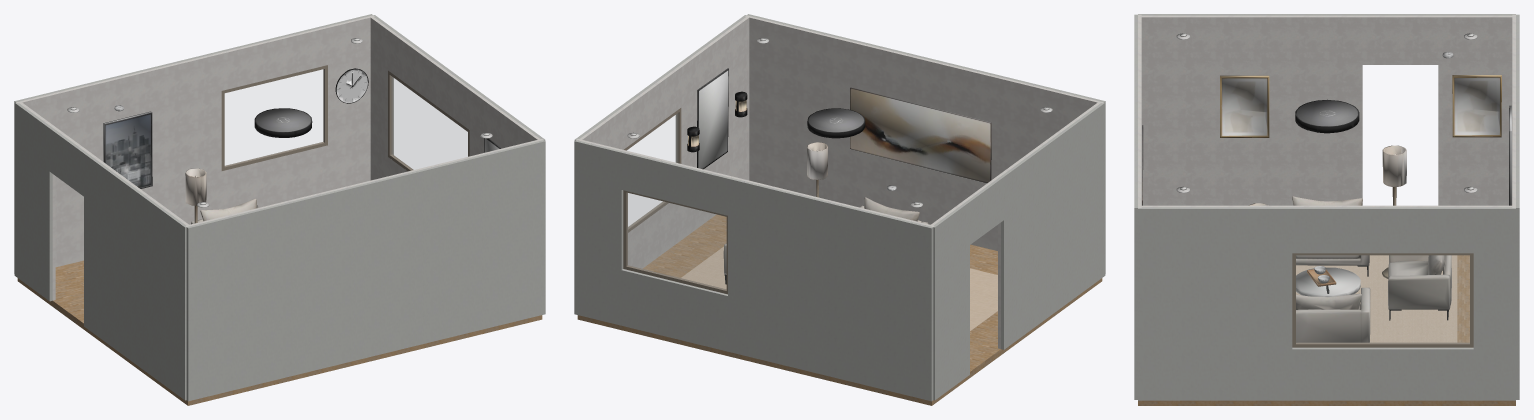
File: scene_named.glb
3 renders of one model, left to right at view 1: azimuth 30°, elevation 25°; view 2: azimuth 150°, elevation 25°; view 3: azimuth 270°, elevation 25°, orthographic. The views are drawn at different scales.
Visible parts, largest first — view 1: south_wall_exterior_living_room/south_wall_exterior_living_r, north_wall_living_room/north_wall_living_room/geometry_0, west_wall_exterior_living_room/west_wall_exterior_living_roo, east_wall_living_room/east_wall_living_room/geometry_0, window_2_living_room/window_2_living_room/glass, window_1_living_room/window_1_living_room/glass, floor_living_room, photograph_print_0, window_2_living_room/window_2_living_room/frame, flush_mount_0, west_wall_living_room/west_wall_living_room/geometry_0, north_wall_exterior_living_room/north_wall_exterior_living_r (+6 smaller); view 2: north_wall_exterior_living_room/north_wall_exterior_living_r, south_wall_living_room/south_wall_living_room/geometry_0, west_wall_exterior_living_room/west_wall_exterior_living_roo, east_wall_living_room/east_wall_living_room/geometry_0, painting_0, window_2_living_room/window_2_living_room/glass, floor_living_room, mirror_0, rug_0, window_1_living_room/window_1_living_room/glass, flush_mount_0, window_2_living_room/window_2_living_room/frame (+7 smaller); view 3: east_wall_exterior_living_room/east_wall_exterior_living_roo, west_wall_living_room/west_wall_living_room/geometry_0, window_1_living_room/window_1_living_room/glass, rug_0, sofa_chair_2, sofa_chair_0, floor_living_room, print_0, print_1, window_1_living_room/window_1_living_room/frame, flush_mount_0, north_wall_exterior_living_room/north_wall_exterior_living_r (+8 smaller).
Part boxes in pixels (x1,y1,x2,y2): south_wall_exterior_living_room/south_wall_exterior_living_r: [186, 140, 545, 401]; north_wall_living_room/north_wall_living_room/geometry_0: [16, 15, 374, 267]; west_wall_exterior_living_room/west_wall_exterior_living_roo: [14, 102, 186, 400]; east_wall_living_room/east_wall_living_room/geometry_0: [370, 17, 539, 180]; window_2_living_room/window_2_living_room/glass: [225, 69, 323, 166]; window_1_living_room/window_1_living_room/glass: [391, 76, 467, 169]; floor_living_room: [17, 260, 542, 405]; photograph_print_0: [103, 111, 152, 188]; window_2_living_room/window_2_living_room/frame: [221, 65, 327, 170]; flush_mount_0: [254, 108, 312, 137]; west_wall_living_room/west_wall_living_room/geometry_0: [20, 102, 188, 300]; north_wall_exterior_living_room/north_wall_exterior_living_r: [14, 14, 372, 273]; north_wall_exterior_living_room/north_wall_exterior_living_r: [574, 140, 933, 401]; south_wall_living_room/south_wall_living_room/geometry_0: [745, 15, 1103, 250]; west_wall_exterior_living_room/west_wall_exterior_living_roo: [933, 102, 1105, 400]; east_wall_living_room/east_wall_living_room/geometry_0: [580, 17, 749, 268]; painting_0: [850, 87, 991, 183]; window_2_living_room/window_2_living_room/glass: [627, 193, 726, 289]; floor_living_room: [577, 214, 1102, 405]; mirror_0: [697, 68, 728, 169]; rug_0: [681, 246, 997, 331]; window_1_living_room/window_1_living_room/glass: [627, 113, 678, 227]; flush_mount_0: [807, 108, 865, 138]; window_2_living_room/window_2_living_room/frame: [623, 190, 727, 294]; east_wall_exterior_living_room/east_wall_exterior_living_roo: [1138, 207, 1515, 400]; west_wall_living_room/west_wall_living_room/geometry_0: [1141, 15, 1512, 205]; window_1_living_room/window_1_living_room/glass: [1296, 255, 1469, 343]; rug_0: [1296, 255, 1457, 342]; sofa_chair_2: [1296, 287, 1370, 342]; sofa_chair_0: [1388, 255, 1451, 320]; floor_living_room: [1138, 255, 1515, 405]; print_0: [1220, 75, 1269, 137]; print_1: [1452, 75, 1501, 137]; window_1_living_room/window_1_living_room/frame: [1292, 253, 1473, 347]; flush_mount_0: [1295, 99, 1359, 133]; north_wall_exterior_living_room/north_wall_exterior_living_r: [1516, 14, 1519, 399].
Size of the model in its own units: 6.1 by 2.9 by 5.1.
Materials: 21 (19 with a texture image).
